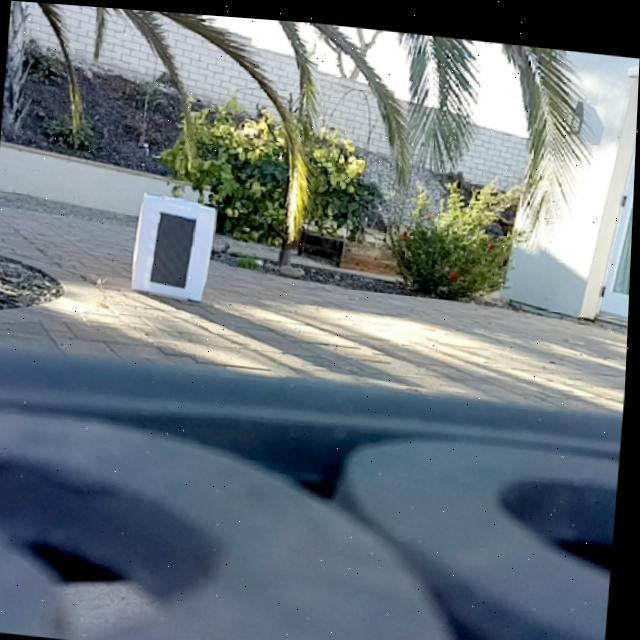led: (152, 207, 199, 286)
